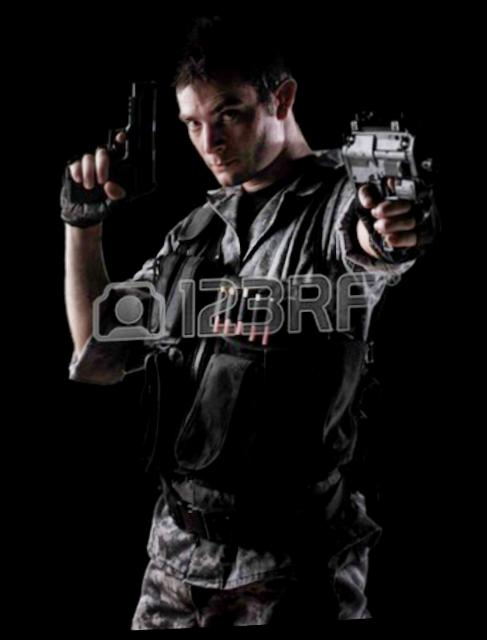pistol: (48, 49, 178, 210), (332, 109, 450, 240)
